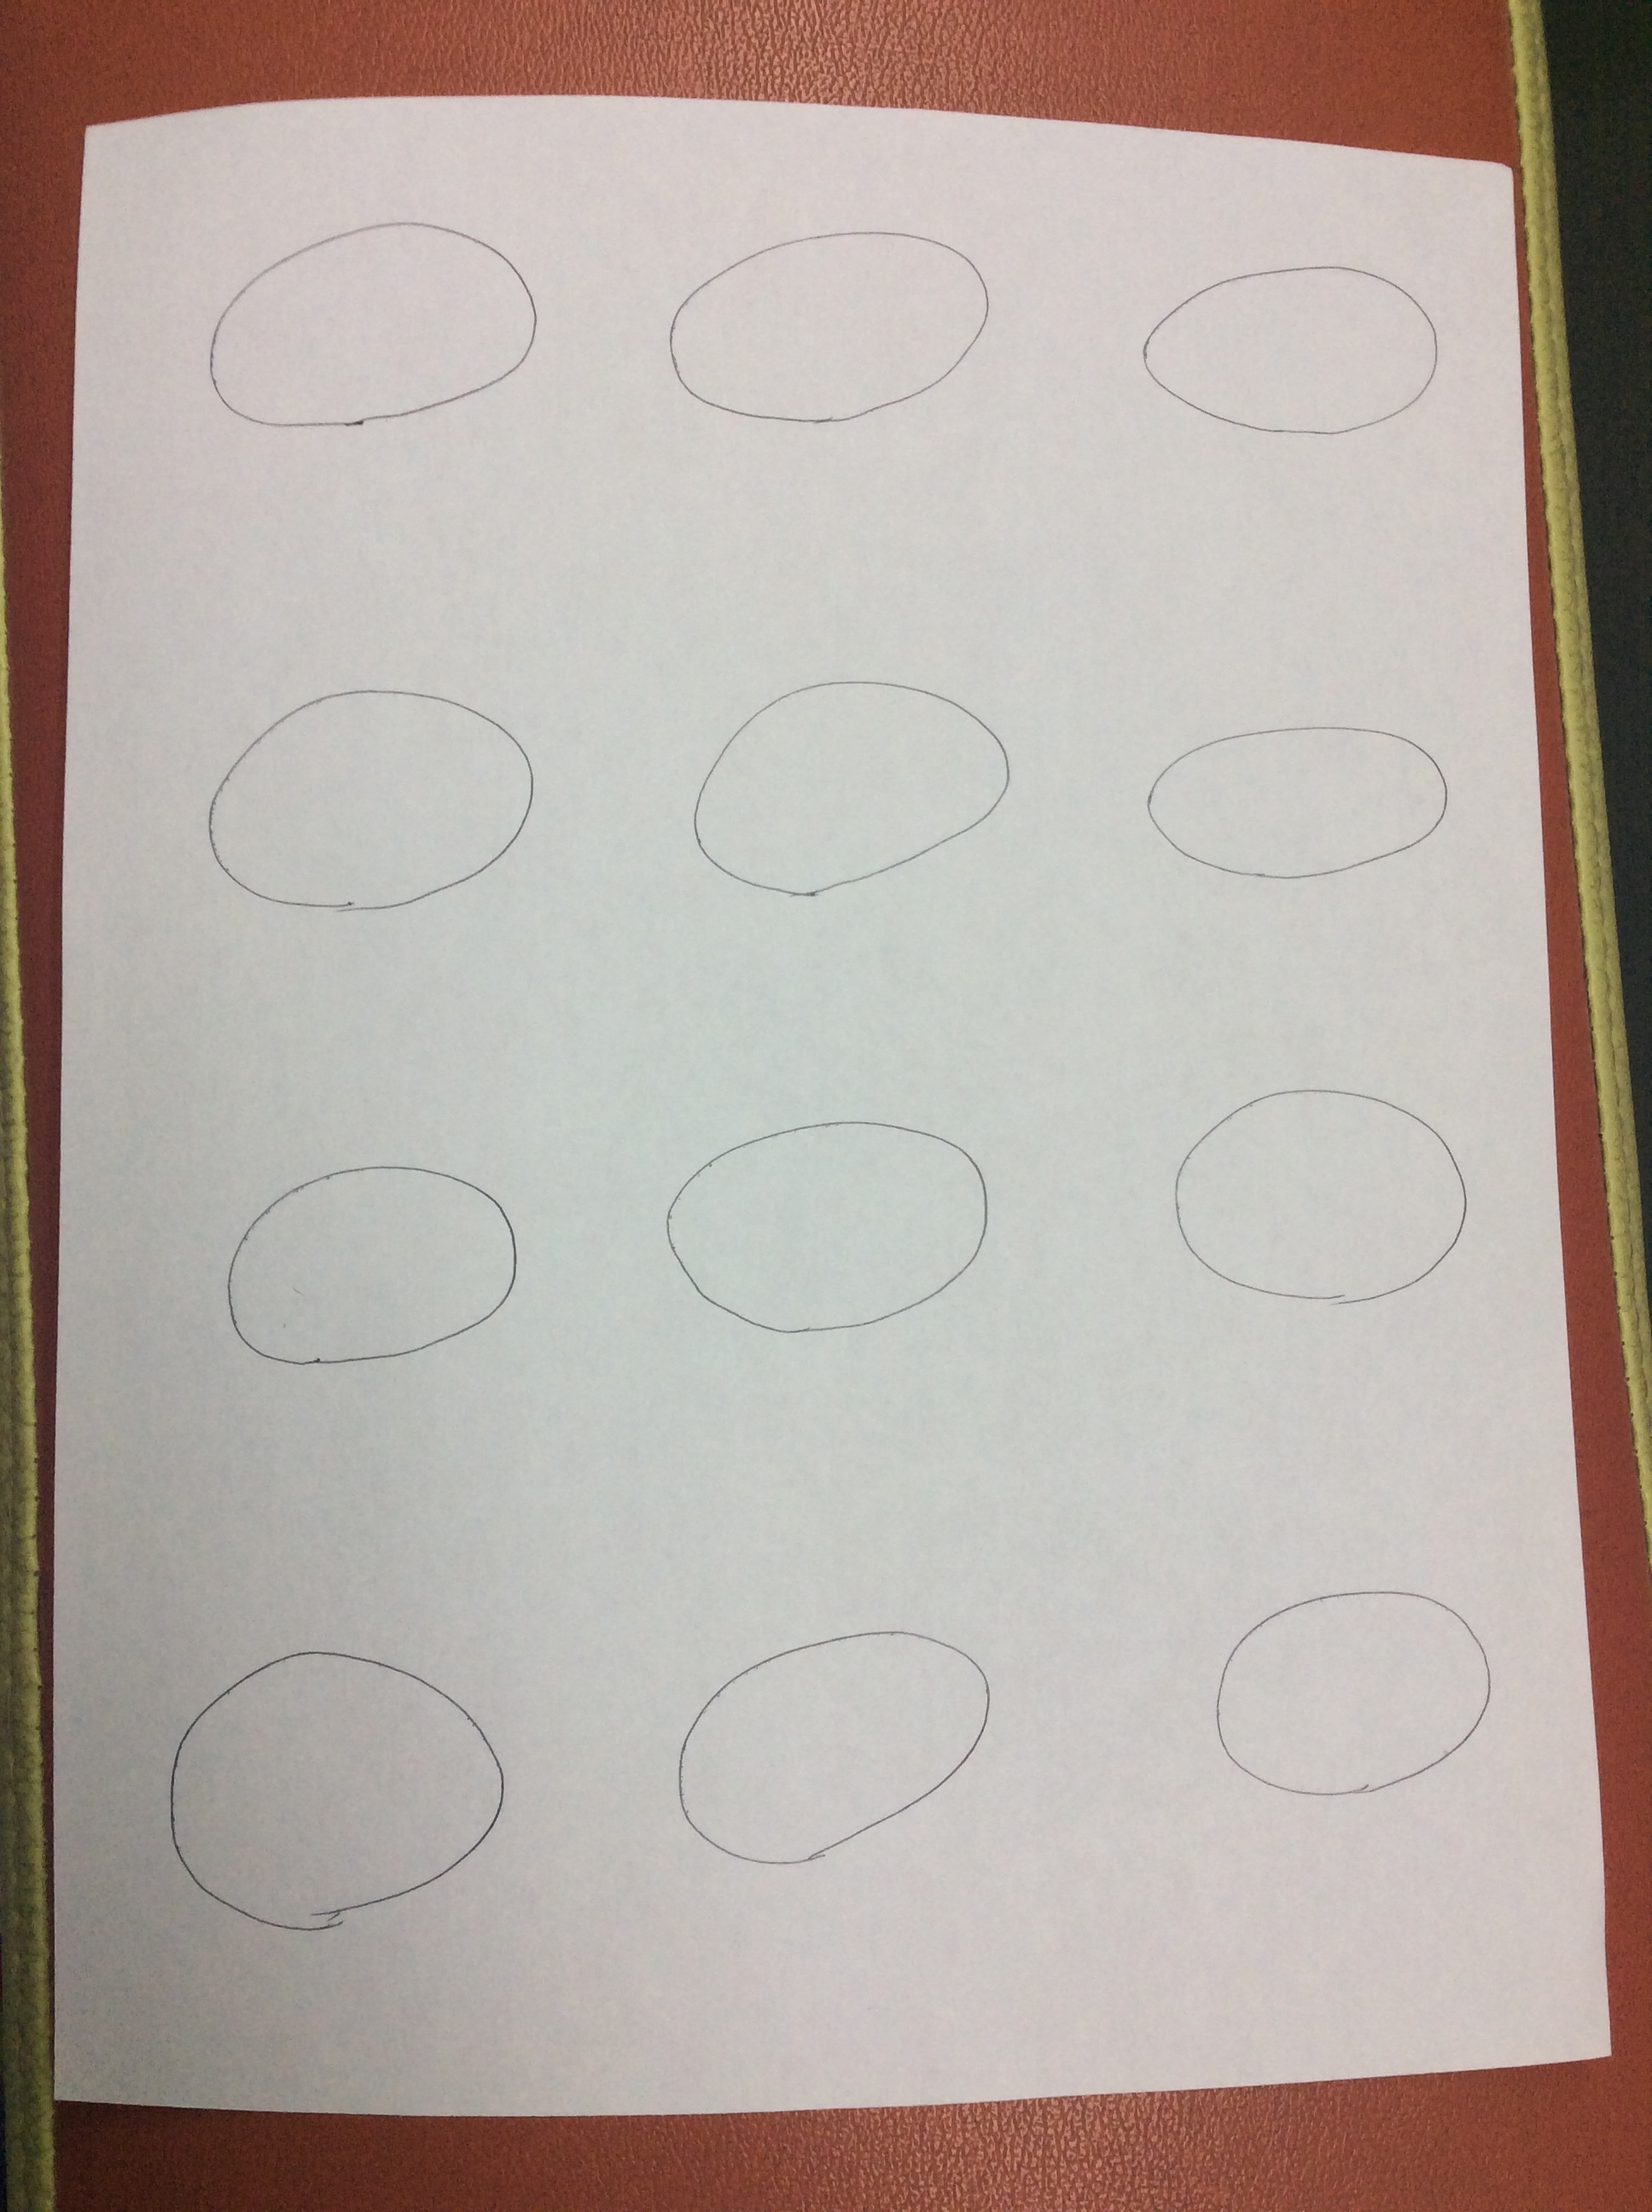start_end: (135, 1638, 528, 1943), (168, 666, 555, 939), (661, 645, 1029, 932), (640, 1619, 1012, 1898), (179, 201, 548, 465), (623, 205, 1008, 455), (1142, 1062, 1498, 1331), (1156, 1563, 1527, 1816), (172, 1150, 555, 1390), (637, 1112, 1012, 1351), (1107, 222, 1470, 468), (1124, 699, 1463, 907)
